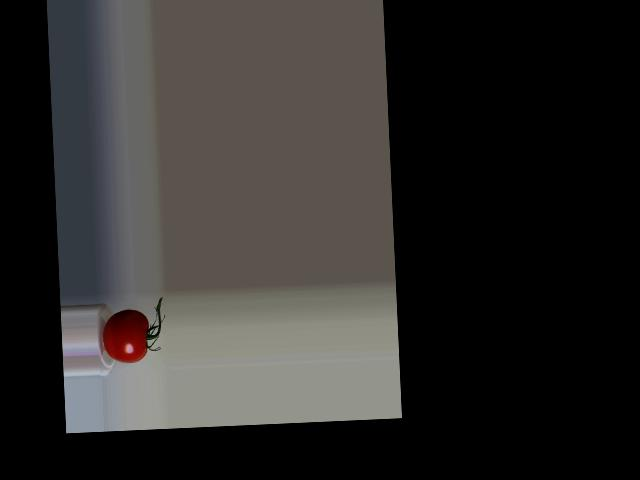tomato: (101, 308, 150, 364)
